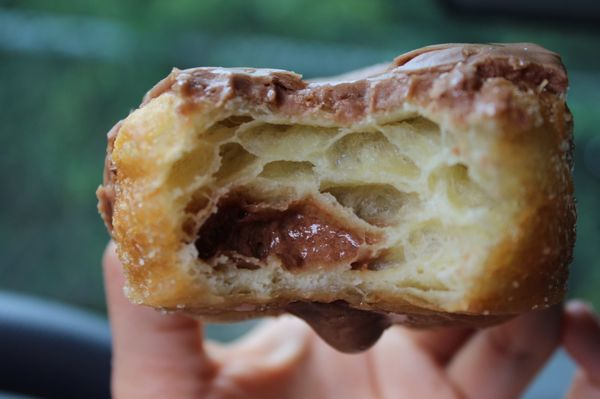salad: (100, 44, 588, 329)
sandwich: (101, 46, 586, 322)
